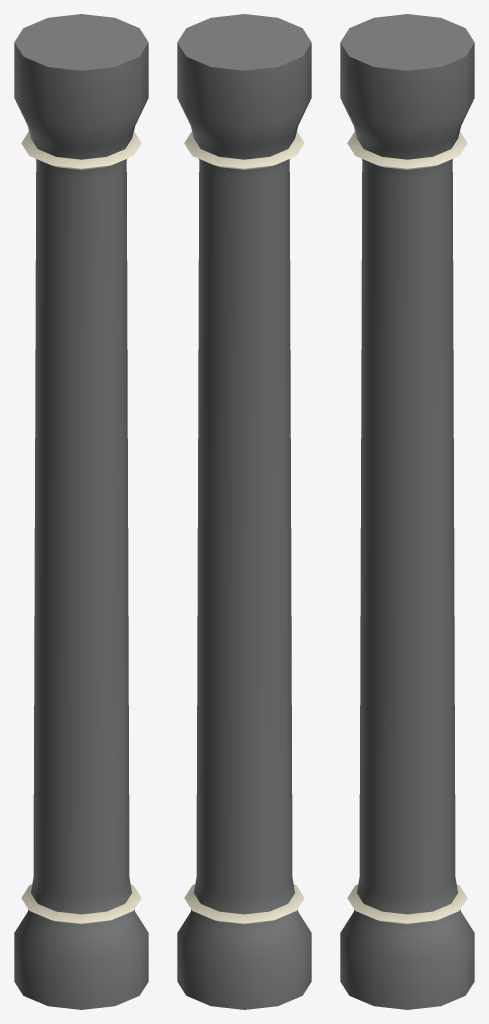
The model's file is qb_pillar_stone.glb.
3 views of the same model, side by side, from view 1: azimuth 30°, elevation 25°; view 2: azimuth 150°, elevation 25°; view 3: azimuth 330°, elevation 25° (orthographic).
Parts seen in each view (by area): view 1: qb_pillar_stone; view 2: qb_pillar_stone; view 3: qb_pillar_stone.
Boxes of the visible parts, x1=… form: qb_pillar_stone: x1=14, y1=14, x2=148, y2=1009; qb_pillar_stone: x1=177, y1=14, x2=311, y2=1009; qb_pillar_stone: x1=340, y1=14, x2=474, y2=1009.
Bounding box in the file's own units: 0.35 × 2.7 × 0.35.
